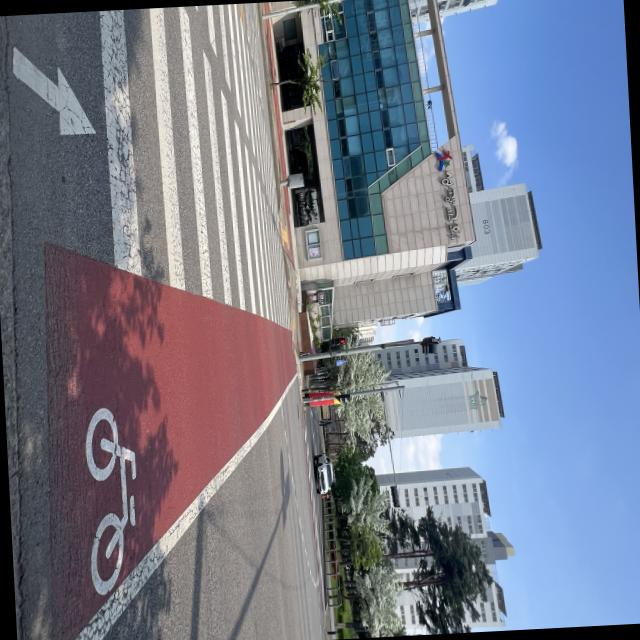red_light: (318, 335, 346, 355)
zebra: (0, 1, 315, 640)
